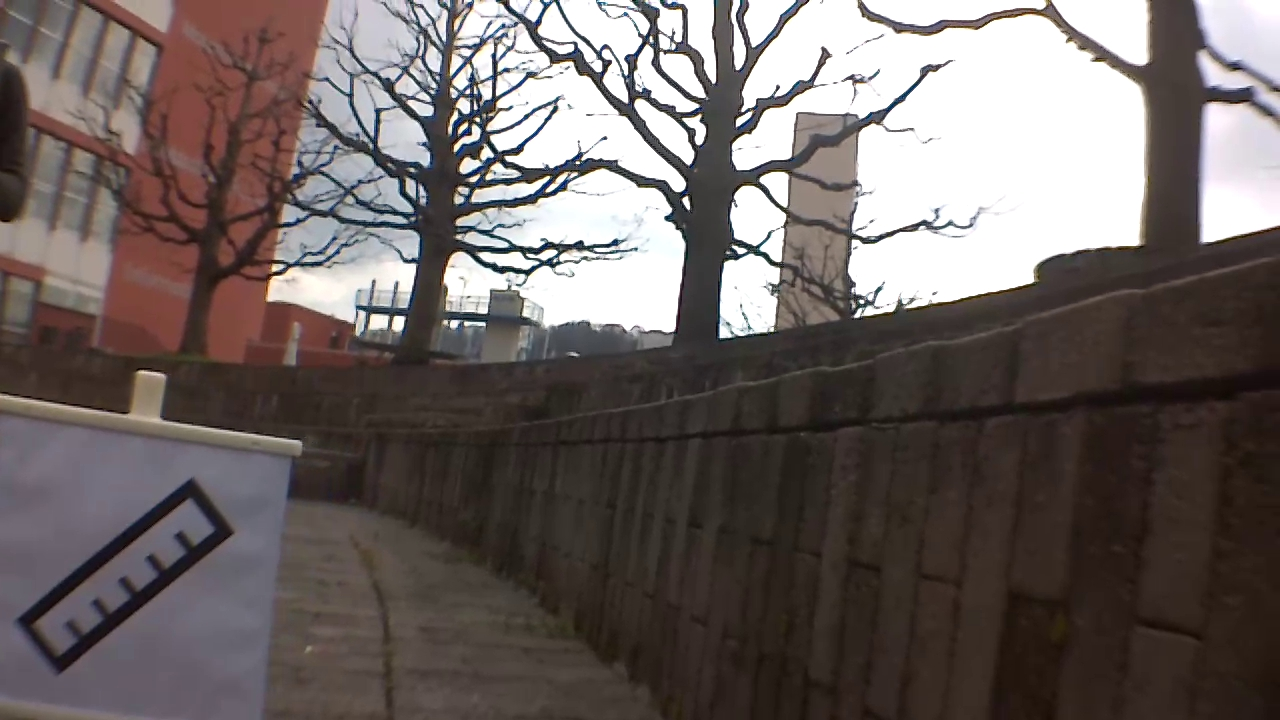ruler: (9, 473, 244, 687)
